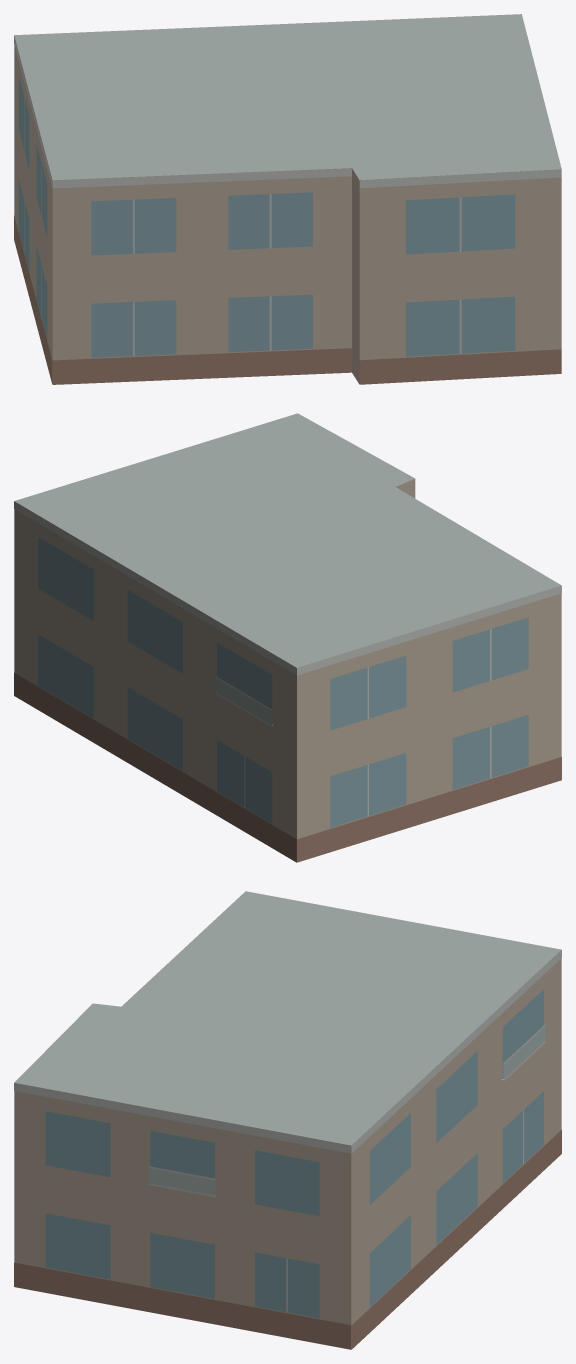
Rendered from survey-upis-32778741.glb.
3 views of the same model, one above another, from view 1: azimuth 30°, elevation 25°; view 2: azimuth 150°, elevation 25°; view 3: azimuth 270°, elevation 25° (orthographic). The views are drawn at different scales.
Parts seen in each view (by area): view 1: survey-upis-32778741.tmp; view 2: survey-upis-32778741.tmp; view 3: survey-upis-32778741.tmp.
Boxes of the visible parts, box(x1,y1,x2,y2) form: survey-upis-32778741.tmp: box(14, 14, 561, 384); survey-upis-32778741.tmp: box(14, 413, 561, 862); survey-upis-32778741.tmp: box(14, 891, 561, 1349).
Size of the model in its own units: 16.31 by 6.1 by 14.84.
